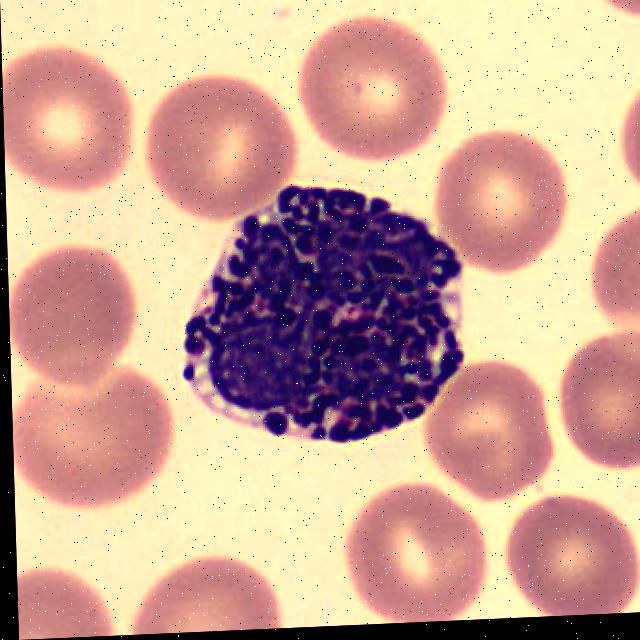basophil: (167, 154, 475, 452)
rbc: (129, 64, 305, 222), (300, 6, 474, 164), (415, 122, 587, 280), (333, 461, 495, 624), (11, 357, 179, 501), (7, 232, 150, 395), (420, 347, 565, 503), (1, 43, 142, 192), (504, 491, 640, 618), (134, 542, 295, 635), (558, 317, 640, 473), (581, 193, 640, 338), (17, 557, 117, 639), (604, 79, 640, 191), (570, 0, 640, 17)
